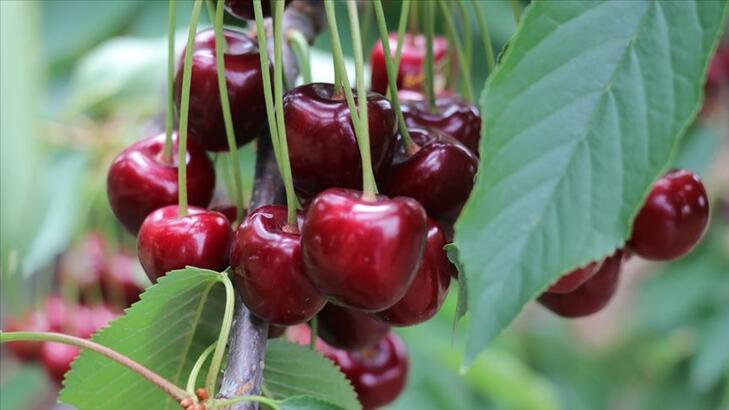Cherry: (299, 186, 430, 310), (139, 205, 231, 298)
